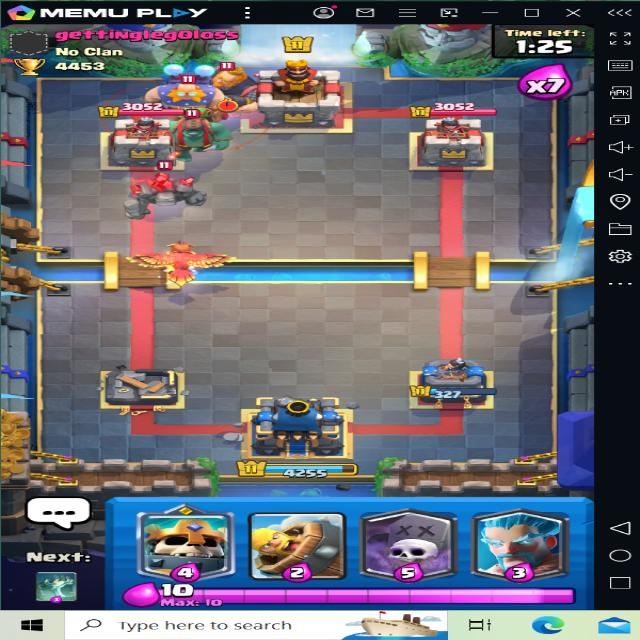electro-giant: (142, 65, 244, 126)
goblin-giant: (155, 105, 231, 161)
golem: (122, 165, 208, 218)
royal-giant: (198, 60, 272, 116)
